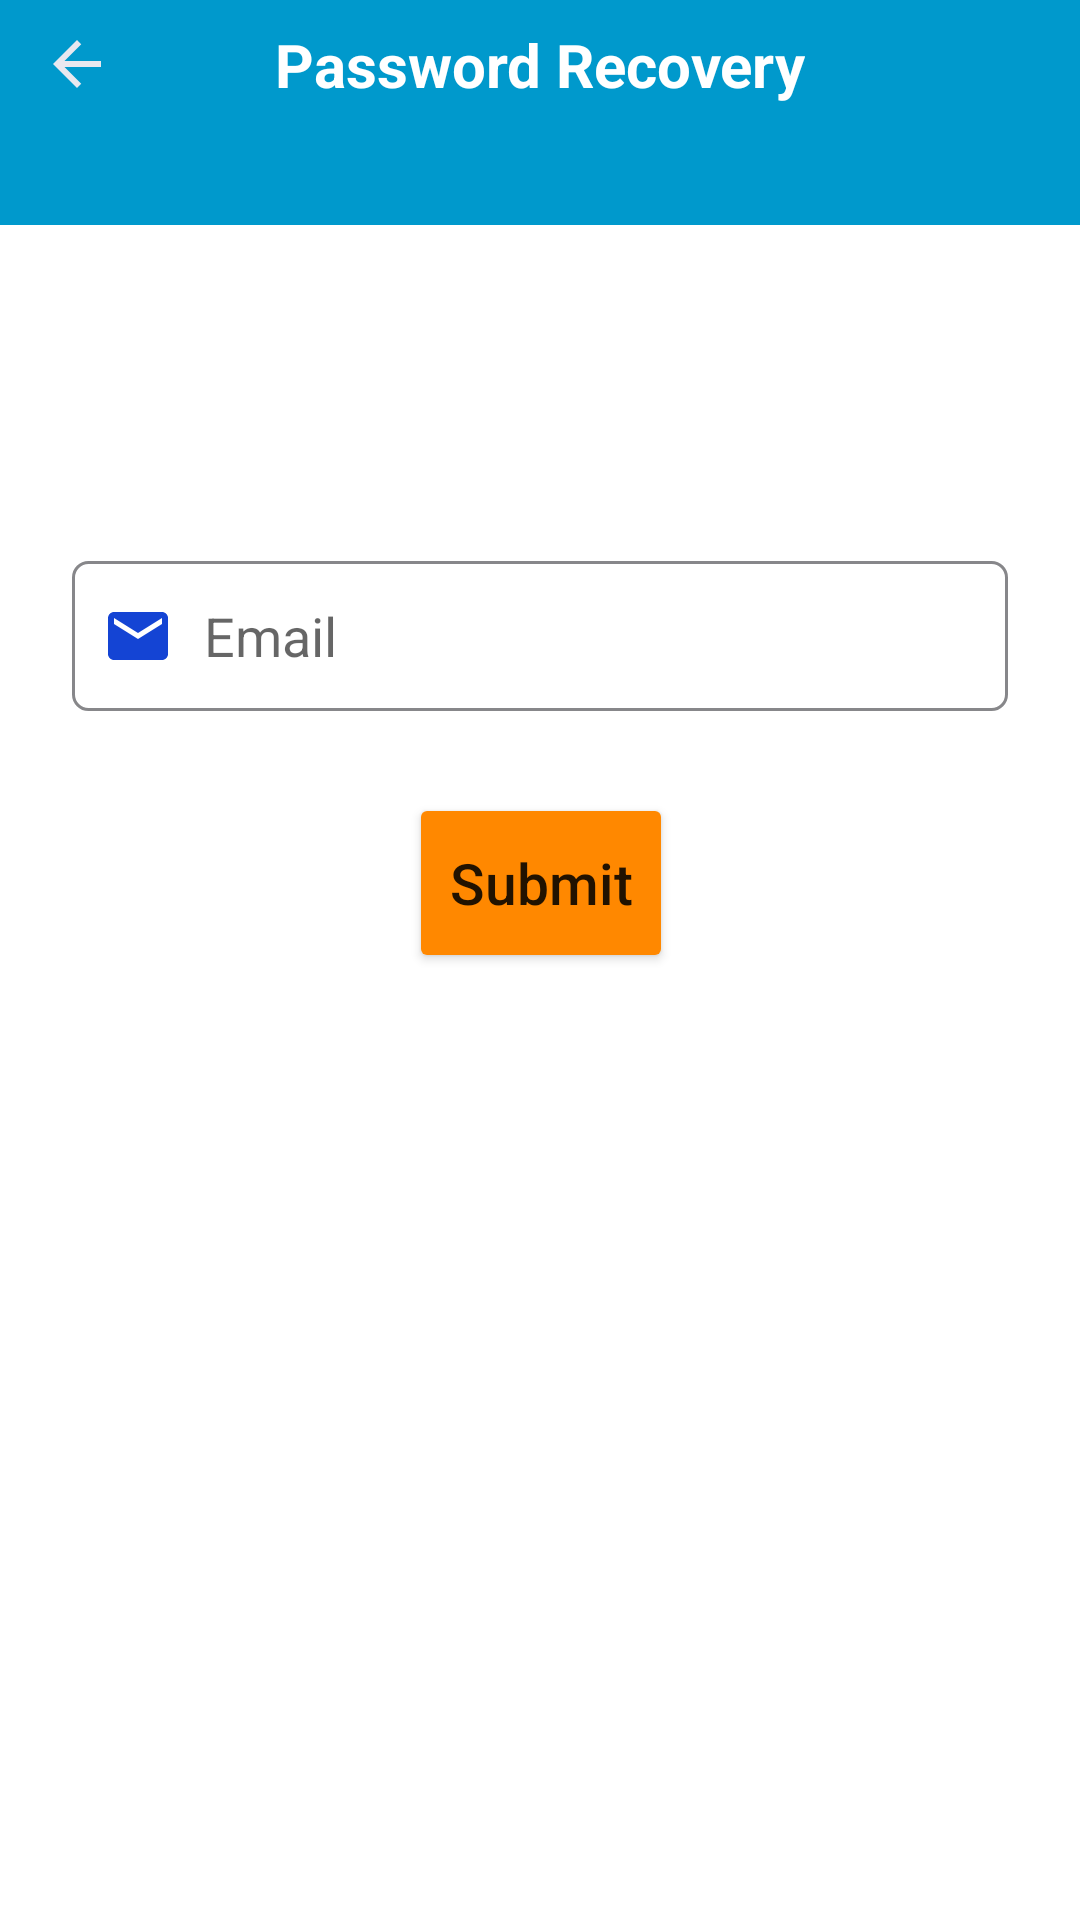

Where to tap for icons on this 1080px×1920px app screen, as (x,y):
arrow back: (77,64)
